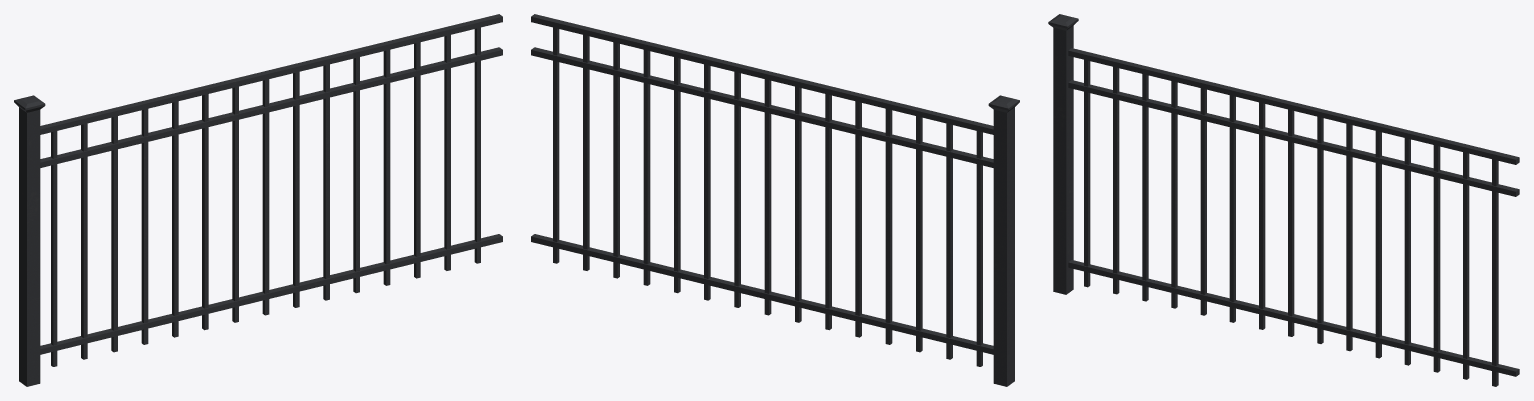
The model's file is StreetFence03_2.FBX.
The picture shows the model from 3 angles, left to right: view 1: azimuth 30°, elevation 25°; view 2: azimuth 150°, elevation 25°; view 3: azimuth 330°, elevation 25°; orthographic projection. The views are drawn at different scales.
Visible parts, largest first — view 1: StreetFence03_2; view 2: StreetFence03_2; view 3: StreetFence03_2.
Boxes of the visible parts, x1,y1,x2,y2 form: StreetFence03_2: (14,14,502,386); StreetFence03_2: (531,14,1019,386); StreetFence03_2: (1048,14,1519,386).
Size of what is drawn, in the model's own units: 4.59 by 2.57 by 0.1897.
